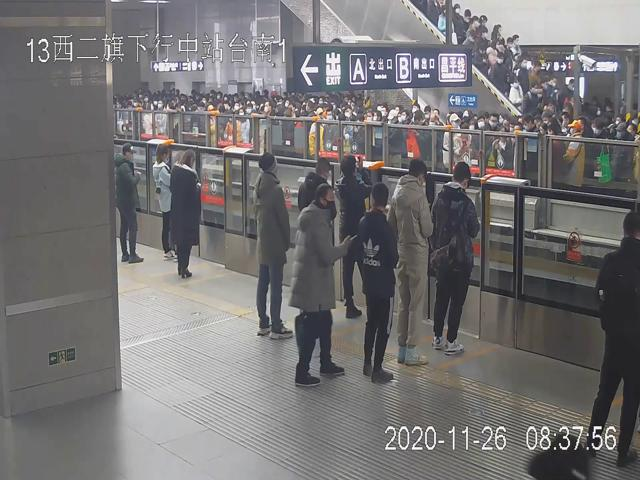person: (290, 184, 349, 386), (430, 161, 478, 356), (389, 159, 433, 364), (358, 183, 396, 384), (254, 152, 294, 342), (335, 156, 369, 320), (171, 148, 201, 277), (152, 142, 180, 260), (115, 140, 142, 262)
